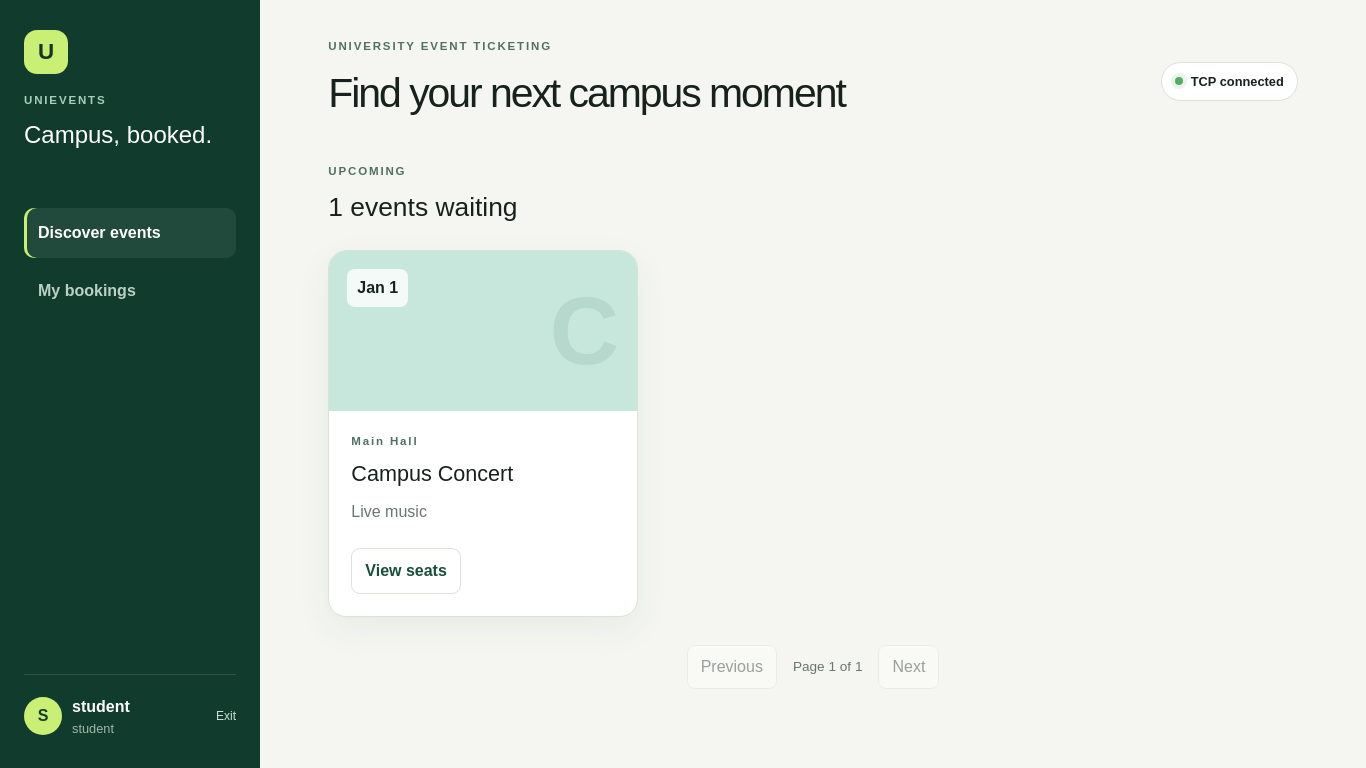
Test case: UniEvents portal › loads events and displays a backend booking conflict without hiding the seat view
The image size is (1366, 768).
Later steps or results of the test are not shown.
Expected: the heading "Campus Concert" is shown, left=351, top=461, right=513, bottom=486
Click the button "View seats" at (406, 571), box left=351, top=548, right=461, bottom=594
(page scrolled)
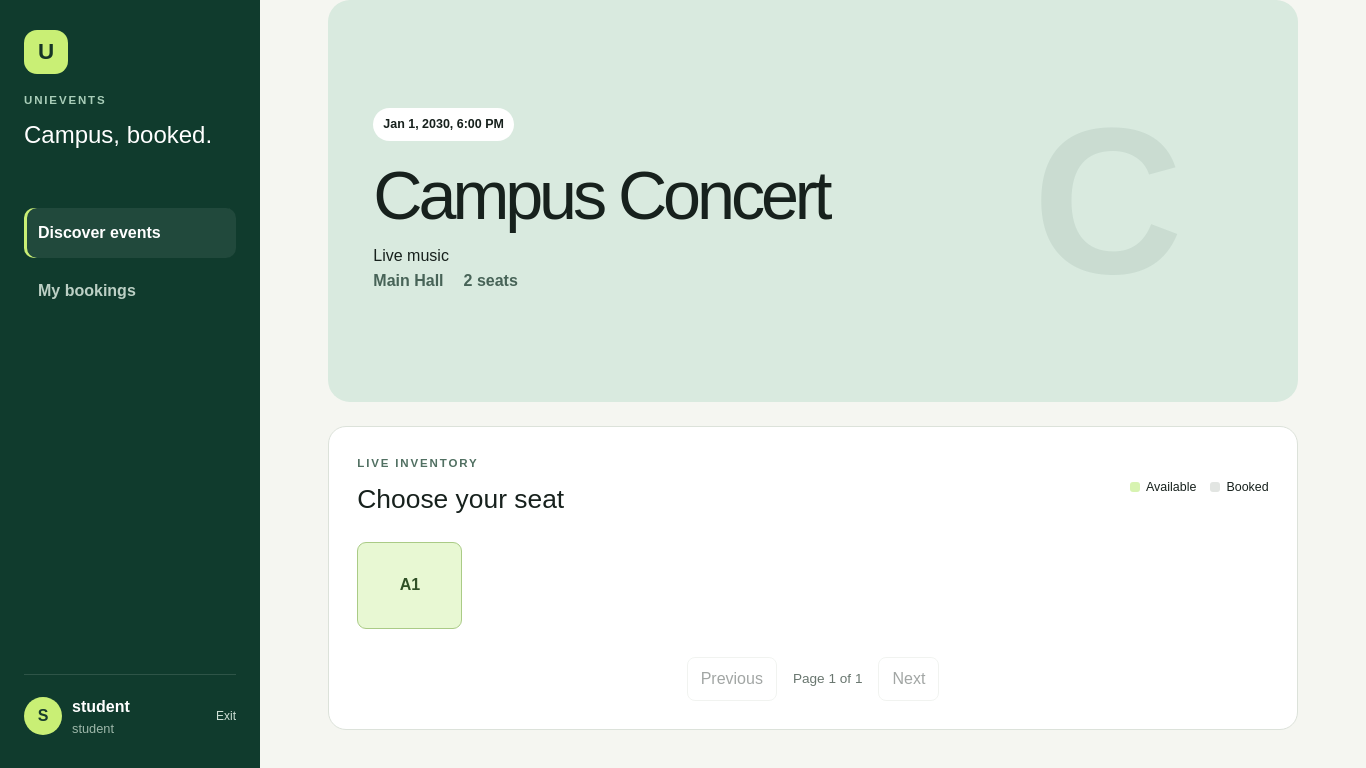
Click the button "A1" at (410, 585), box left=357, top=542, right=462, bottom=629
Now the heading "Choose your seat" is shown, box left=357, top=480, right=564, bottom=520
